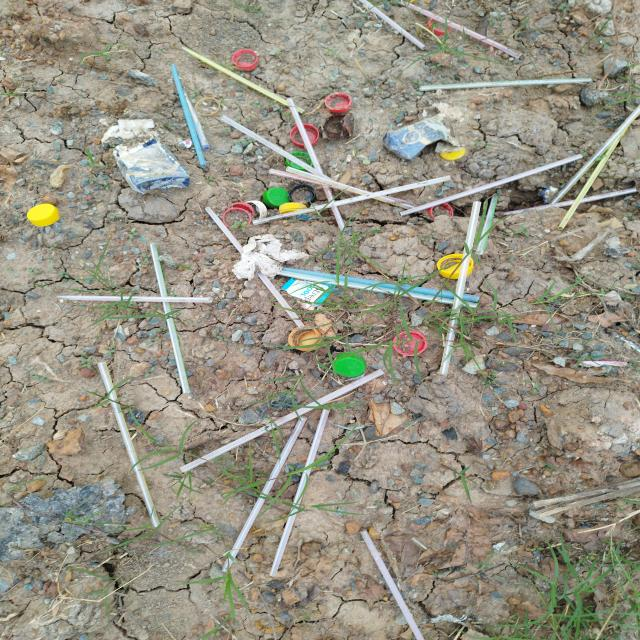drinking straw: (180, 368, 386, 473), (220, 416, 308, 572), (205, 206, 304, 328), (400, 153, 583, 217), (220, 115, 353, 197), (269, 408, 332, 578), (97, 362, 161, 528), (252, 175, 452, 226), (549, 105, 640, 204), (182, 46, 305, 114), (282, 267, 479, 309), (286, 98, 345, 231), (393, 0, 523, 60), (438, 201, 482, 377), (558, 123, 630, 230), (360, 529, 425, 640), (148, 242, 192, 394), (286, 166, 414, 210), (269, 168, 410, 203), (503, 186, 636, 216), (171, 64, 207, 168), (357, 0, 427, 50), (418, 77, 593, 91), (473, 192, 499, 255), (55, 296, 213, 303)
